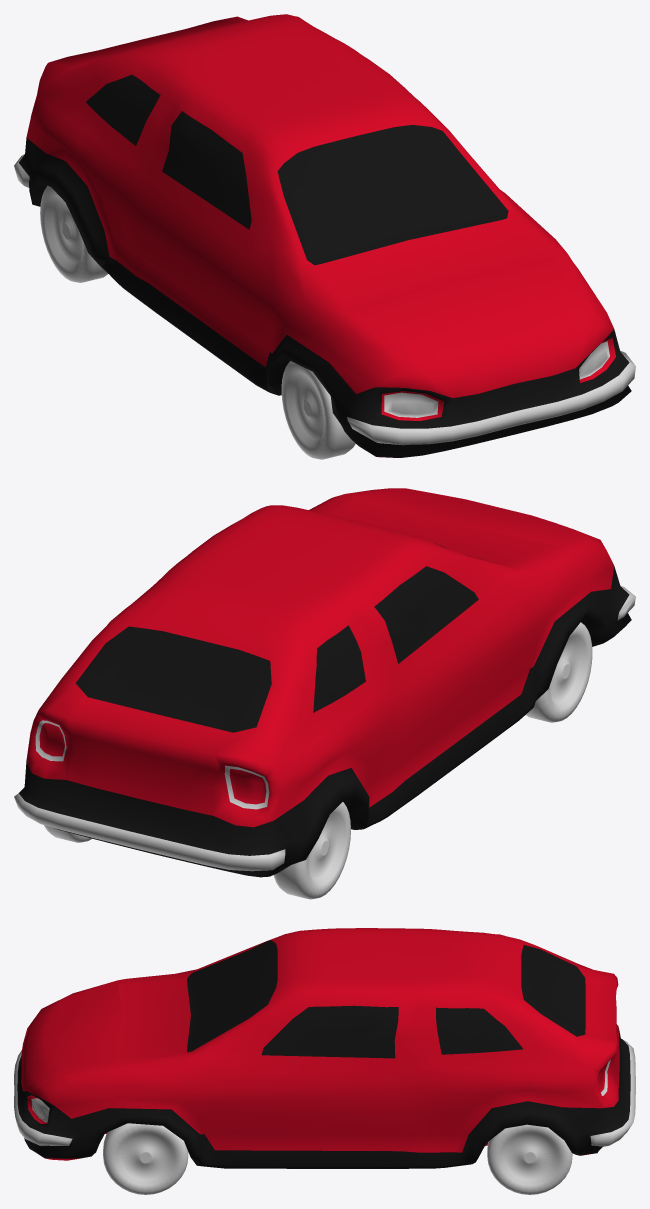
Rendered from vehicle-realistic-compact.fbx.
3 renders of one model, top to bottom at view 1: azimuth 30°, elevation 25°; view 2: azimuth 150°, elevation 25°; view 3: azimuth 270°, elevation 25°, orthographic. The views are drawn at different scales.
Visible parts, largest first — view 1: CARRO, roda2, roda4; view 2: CARRO, roda4, roda2; view 3: CARRO, roda1, roda3.
Boxes of the visible parts, x1,y1,x2,y2 form: CARRO: [14, 14, 635, 457]; roda2: [281, 361, 355, 459]; roda4: [40, 186, 107, 282]; CARRO: [14, 488, 635, 877]; roda4: [273, 802, 350, 899]; roda2: [526, 622, 592, 722]; CARRO: [14, 928, 635, 1168]; roda1: [103, 1123, 188, 1194]; roda3: [487, 1124, 572, 1194].
Bounding box in the file's own units: 244 × 190 × 565.
